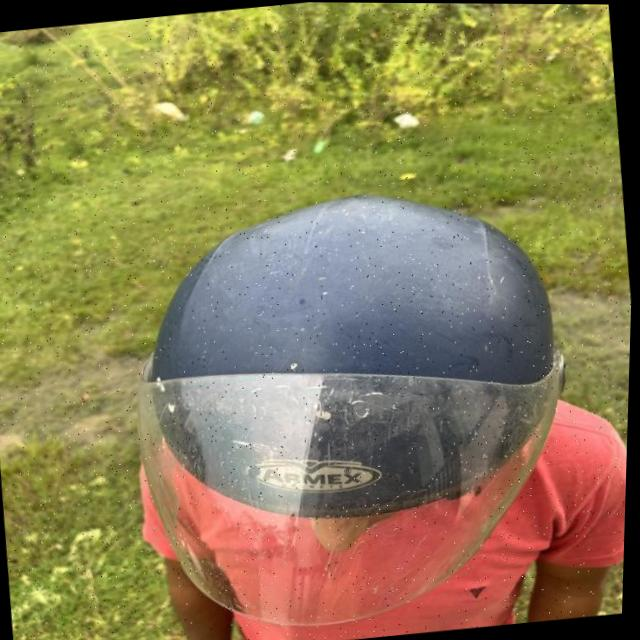helmet: (117, 173, 598, 640)
